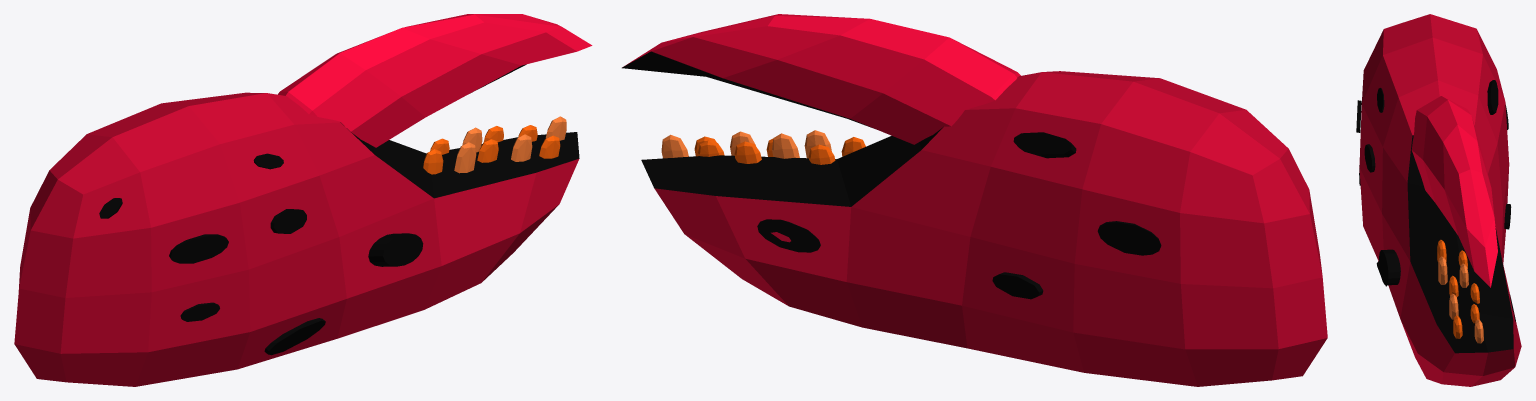
The model's file is Ingredient_claw_1.fbx.
3 renders of one model, left to right at view 1: azimuth 30°, elevation 25°; view 2: azimuth 150°, elevation 25°; view 3: azimuth 270°, elevation 25°, orthographic. The views are drawn at different scales.
Visible parts, largest first — view 1: Cube.002; view 2: Cube.002; view 3: Cube.002.
Boxes of the visible parts, left/top/right/bottom form: Cube.002: left=14, top=14, right=592, bottom=386; Cube.002: left=622, top=14, right=1327, bottom=386; Cube.002: left=1356, top=14, right=1521, bottom=386.
Size of the model in its own units: 36.71 by 16.12 by 9.69.
